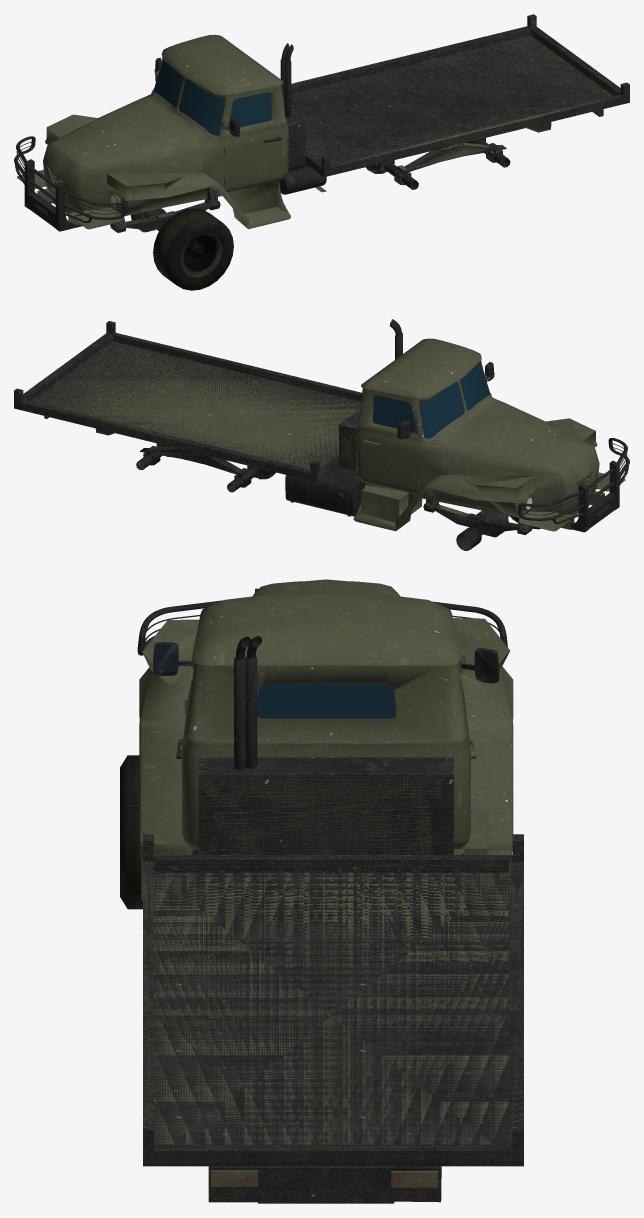
Rendered from Truck Military.fbx.
3 views of the same model, one above another, from view 1: azimuth 30°, elevation 25°; view 2: azimuth 150°, elevation 25°; view 3: azimuth 270°, elevation 25° (orthographic). The views are drawn at different scales.
Parts seen in each view (by area): view 1: Group1, Group2; view 2: Group1; view 3: Group1, Group2.
Boxes of the visible parts, box(x1,y1,x2,y2) form: Group1: box(14, 14, 629, 232); Group2: box(153, 208, 233, 290); Group1: box(14, 319, 629, 550); Group1: box(137, 579, 523, 1203); Group2: box(120, 755, 142, 909).
Size of the model in its own units: 1355 by 460 by 439.
